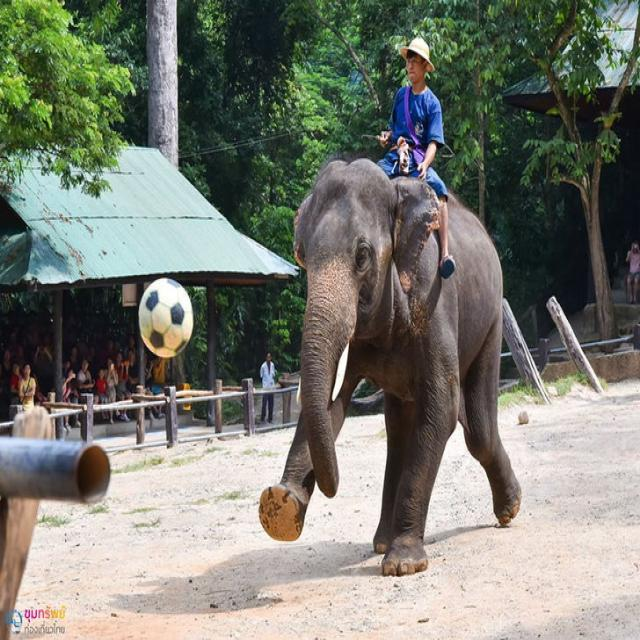Elephant: (250, 142, 553, 606)
